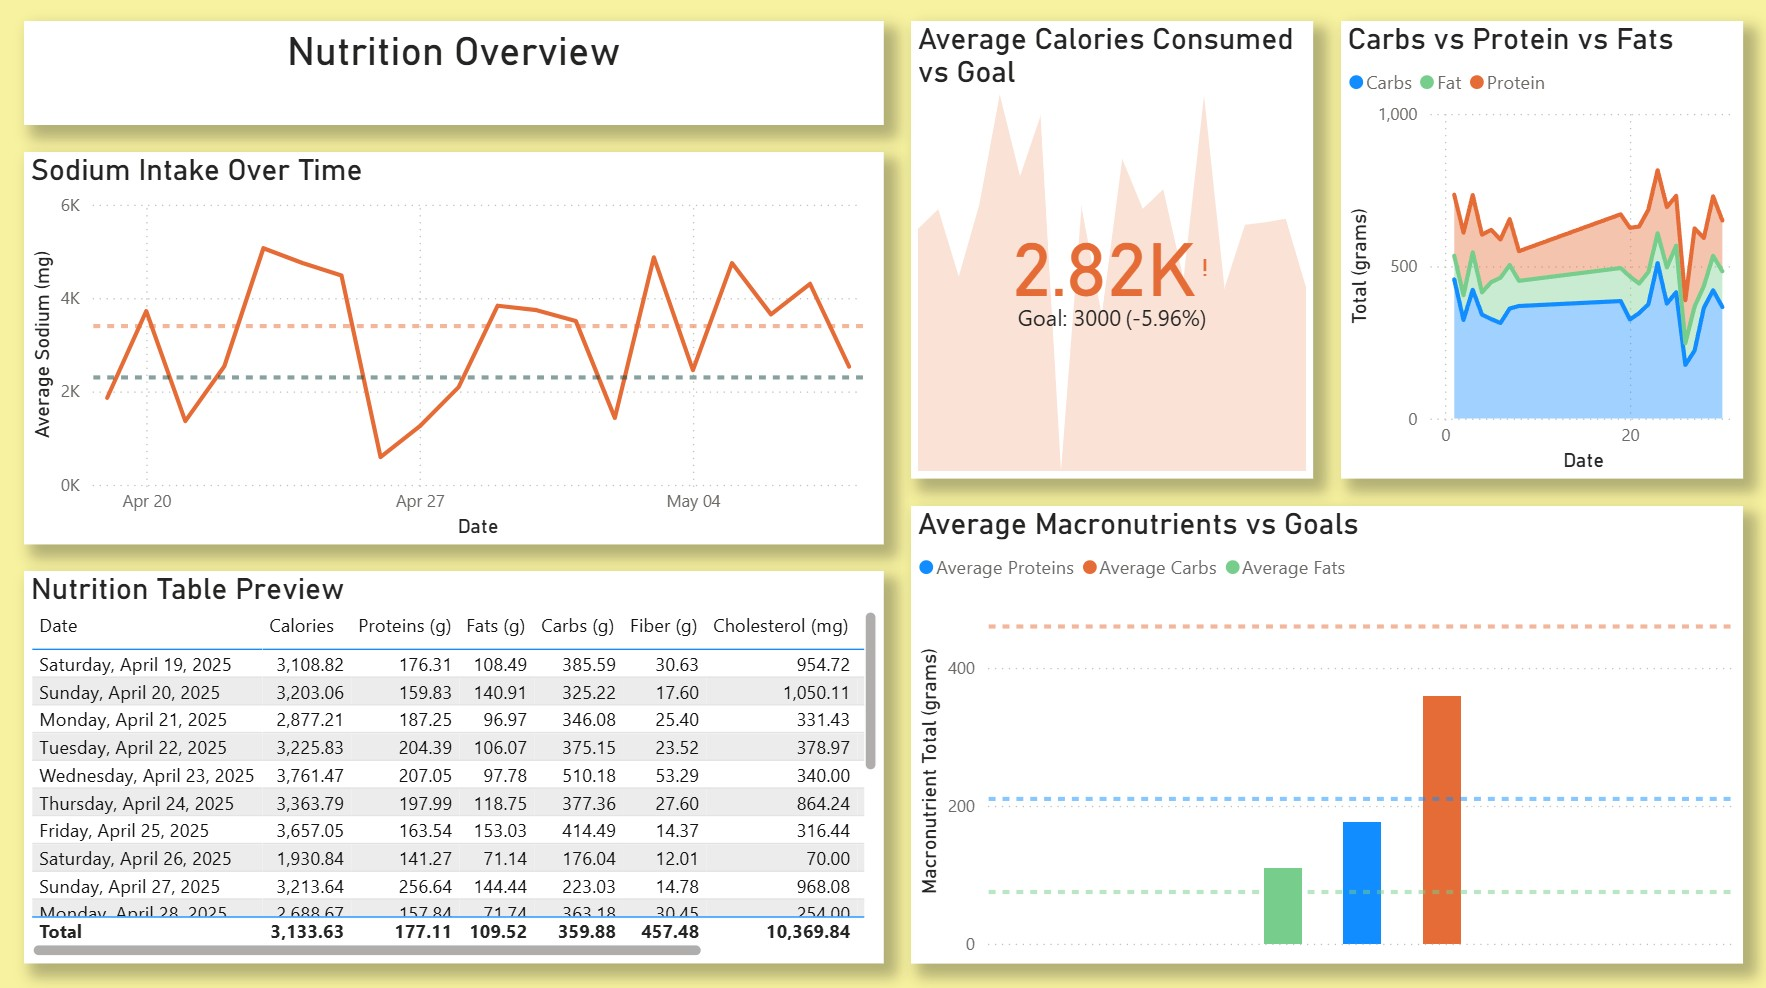

This screenshot's page, from the dashboard's own definition file:
{"tool":"powerbi","page":{"name":"Nutrition","canvas":[1280,720],"ordinal":3},"visuals":[{"type":"kpi","title":"Average Calories Consumed vs Goal","fields":{"TrendLine":["primary_nutrition.entry_date"],"Indicator":["Avg(primary_nutrition.calories)"],"Goal":["primary_nutrition.Calorie Goal"]},"box":[660,20.2,290,329.6],"z":0},{"type":"clusteredColumnChart","title":"Average Macronutrients vs Goals","fields":{"Y":["Avg(primary_nutrition.protein_g)","Avg(primary_nutrition.carbs_g)","Avg(primary_nutrition.fat_g)"]},"box":[660,370,600,330],"z":1000},{"type":"lineChart","title":"Sodium Intake Over Time","fields":{"Y":["Avg(daily_minerals.sodium_mg)"],"Category":["daily_minerals.entry_date.Variation.Date Hierarchy.Year","daily_minerals.entry_date.Variation.Date Hierarchy.Quarter","daily_minerals.entry_date.Variation.Date Hierarchy.Month","daily_minerals.entry_date.Variation.Date Hierarchy.Day"]},"box":[20,115,620,283],"z":2000},{"type":"stackedAreaChart","title":"Carbs vs Protein vs Fats","fields":{"Y":["Sum(primary_nutrition.carbs_g)","Sum(primary_nutrition.fat_g)","Sum(primary_nutrition.protein_g)"],"Category":["primary_nutrition.entry_date.Variation.Date Hierarchy.Day"]},"box":[970,20.2,290,330],"z":3000},{"type":"tableEx","title":"Nutrition Table Preview","fields":{"Values":["primary_nutrition.entry_date","Avg(primary_nutrition.calories)","Avg(primary_nutrition.protein_g)","Avg(primary_nutrition.fat_g)","Avg(primary_nutrition.carbs_g)","Sum(primary_nutrition.fiber_g)","Sum(primary_nutrition.cholesterol_mg)","Sum(primary_nutrition.sugars_g)","Sum(daily_minerals.sodium_mg)"]},"box":[20,417,620,283],"z":4000},{"type":"textbox","box":[20,20,620,75],"z":5000}]}

Visuals, with their boxes in screenshot pixels (x1, y1, x2, y2), scaled from the page's 1280x720 canvas onto the 1766x988 screenshot:
"Average Calories Consumed vs Goal" kpi: (left=911, top=28, right=1311, bottom=480)
"Average Macronutrients vs Goals" clusteredColumnChart: (left=911, top=508, right=1738, bottom=961)
"Sodium Intake Over Time" lineChart: (left=28, top=158, right=883, bottom=546)
"Carbs vs Protein vs Fats" stackedAreaChart: (left=1338, top=28, right=1738, bottom=481)
"Nutrition Table Preview" tableEx: (left=28, top=572, right=883, bottom=961)
textbox: (left=28, top=27, right=883, bottom=130)
